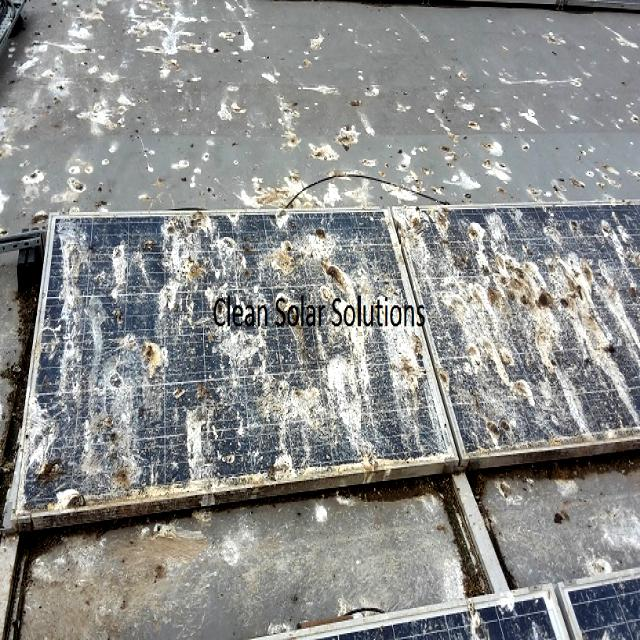bird: (27, 436, 96, 510), (500, 253, 568, 313), (442, 320, 503, 384), (172, 370, 220, 447), (102, 409, 140, 495), (572, 252, 618, 318), (576, 325, 628, 382), (56, 221, 100, 286), (277, 370, 327, 427), (315, 248, 360, 308), (558, 202, 620, 240), (511, 348, 542, 423), (160, 210, 222, 247), (396, 334, 426, 406), (137, 325, 170, 385), (168, 260, 206, 312), (105, 225, 130, 302), (467, 216, 497, 280), (258, 438, 302, 481), (394, 199, 456, 228), (263, 226, 300, 274), (478, 403, 515, 444), (298, 220, 342, 244)
